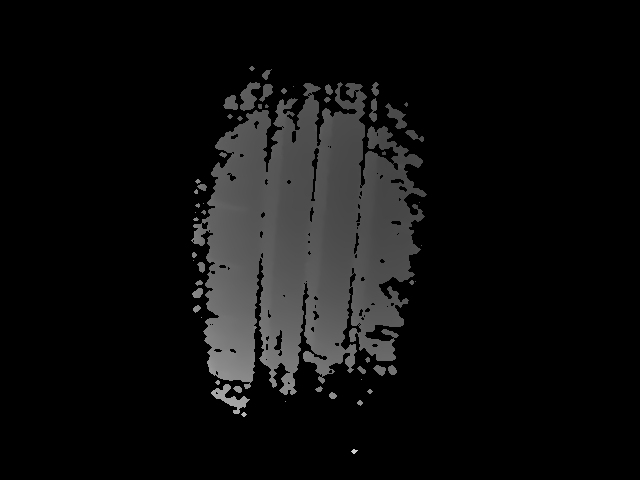high: (329, 204, 333, 215)
low: (318, 204, 321, 215)
